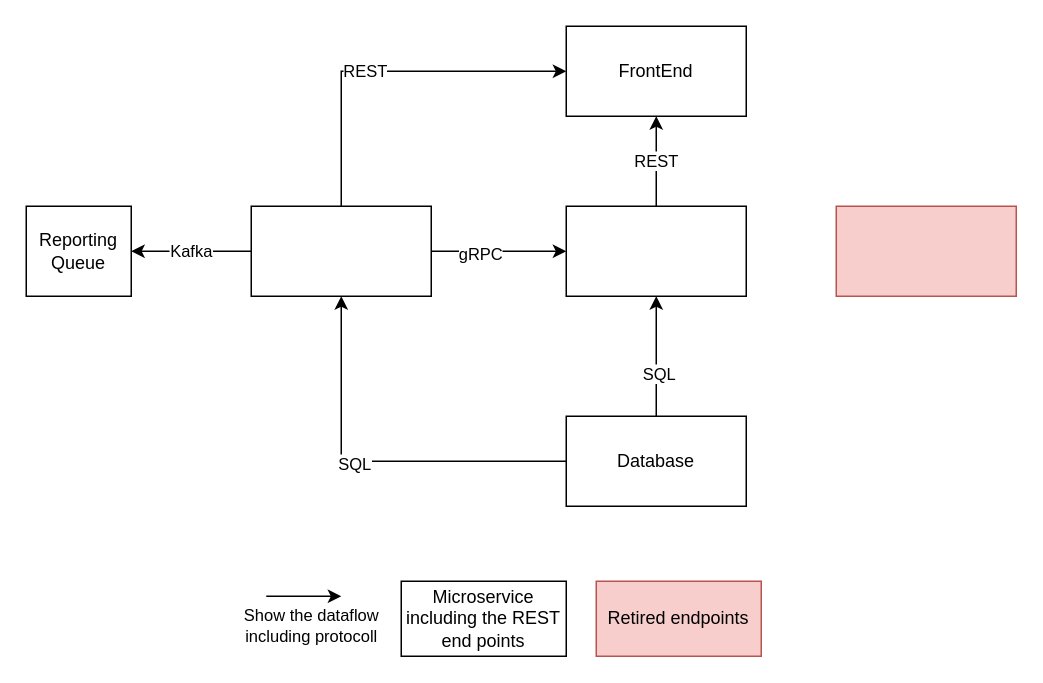
Image size: 1043x683. Some labels were removed from this diagram. Here are the shapes that lost their labels. From the top down, the centre of each, then its label:
At (340,250): "UDAC Person POST /persons GET /persons GET /persons/i<d>".
At (655,250): "UDAC Connection GET /persons/<id> /connections".
At (925,250): "POST /locations GET /locations/<id>".
